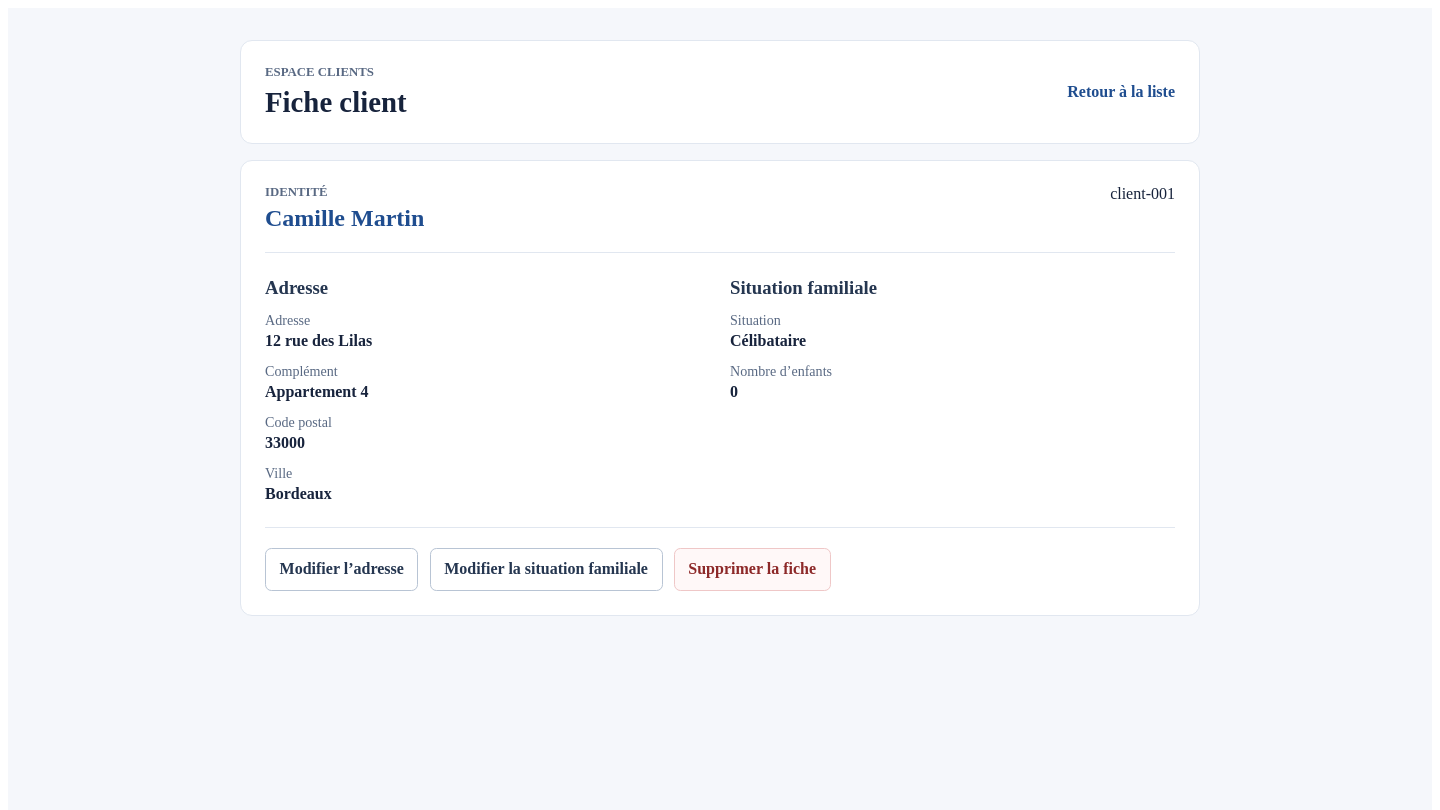
Test: ClientDetailPageComponent › updates the address on success and keeps the original after a recoverable error
Click the button "Modifier l’adresse". click: [342, 569]
box: [265,548,418,590]
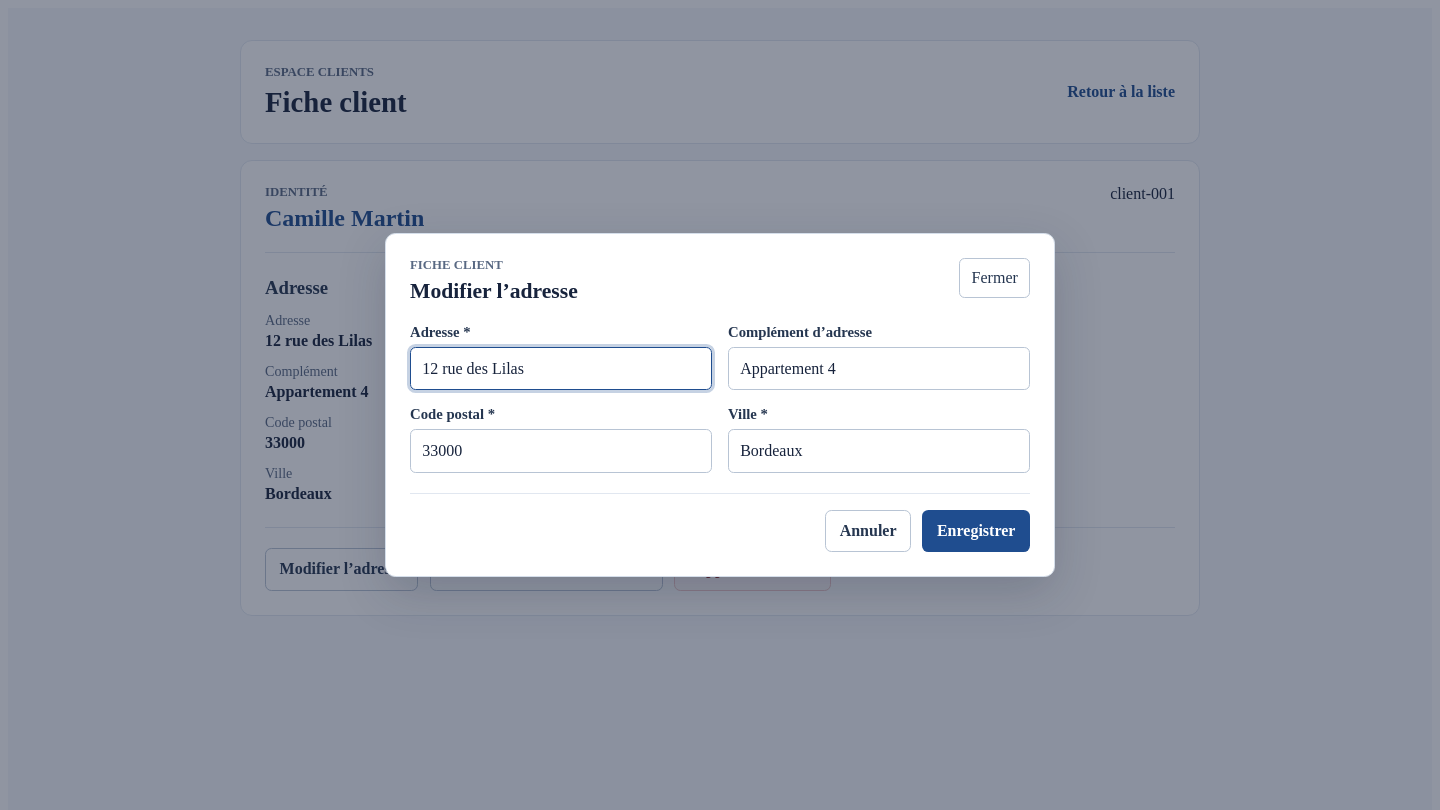
Replace the text in the field named "ligne1" with "44 rue des Fleurs". click: [561, 368]
box: [410,347,712,390]
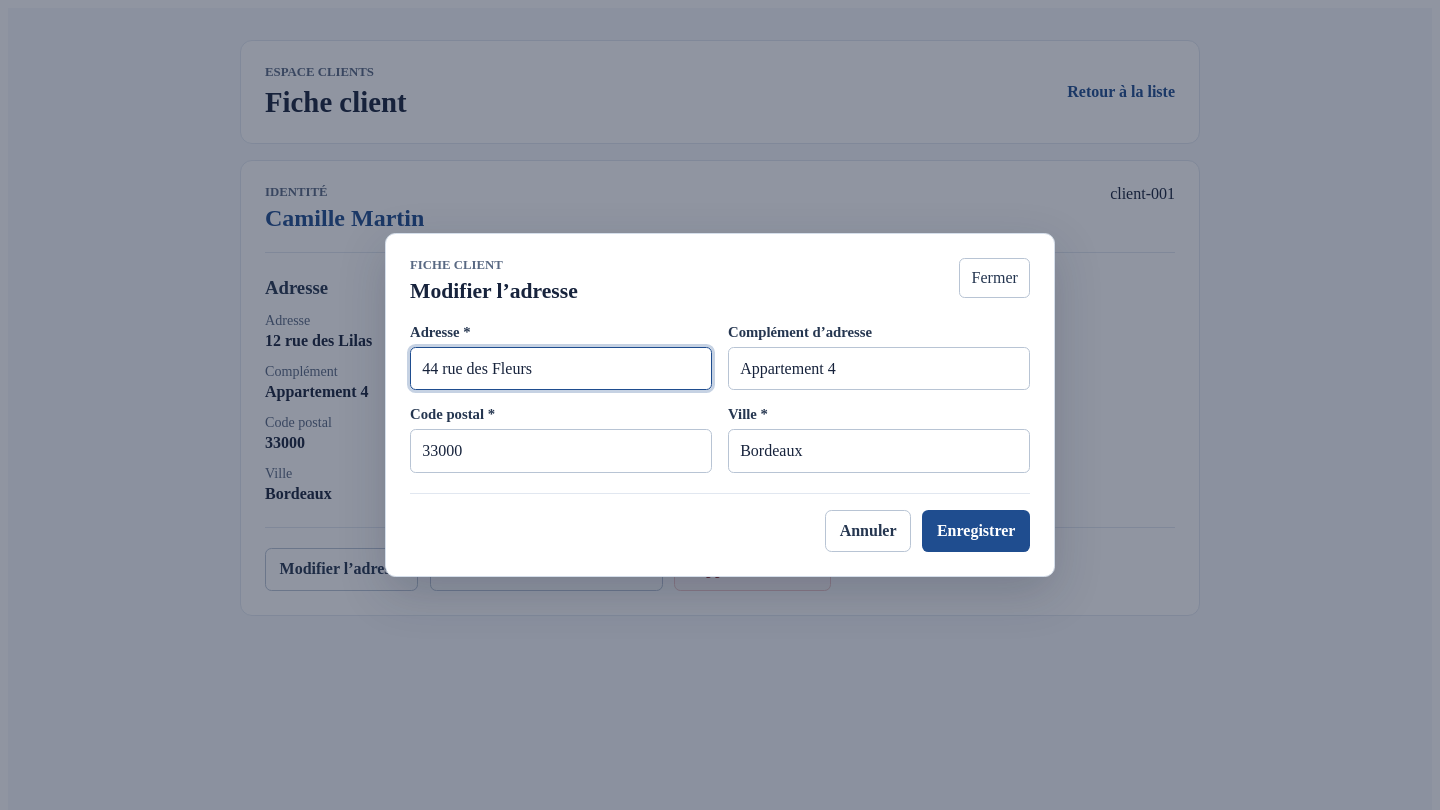
Click the button "Enregistrer". click: [976, 531]
box: [922,510,1030,552]
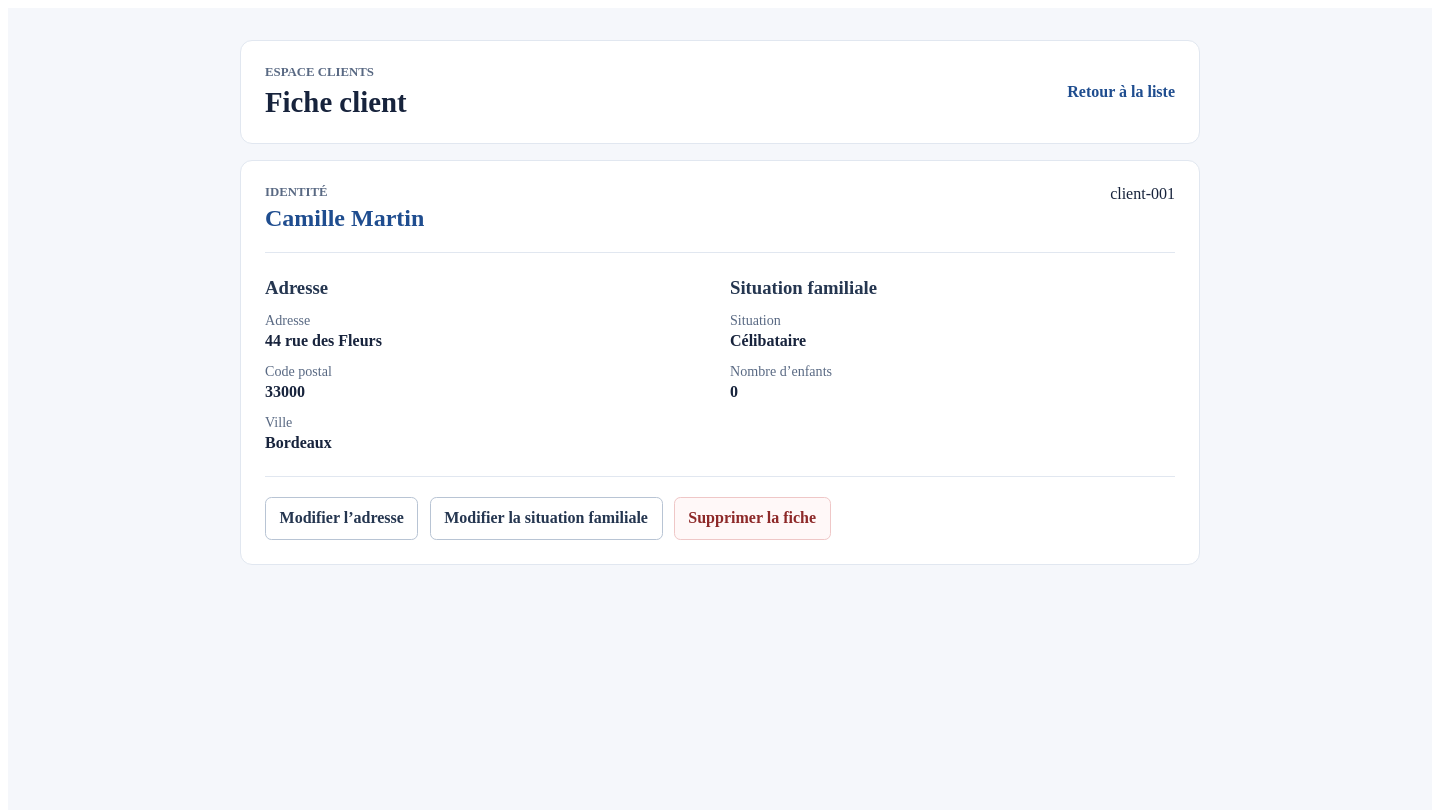
Expected: the text "44 rue des Fleurs" is shown, [265,332,382,349]
Expected: the text "12 rue des Lilas" is gone
Click the button "Modifier l’adresse". click: [342, 518]
box: [265,497,418,540]
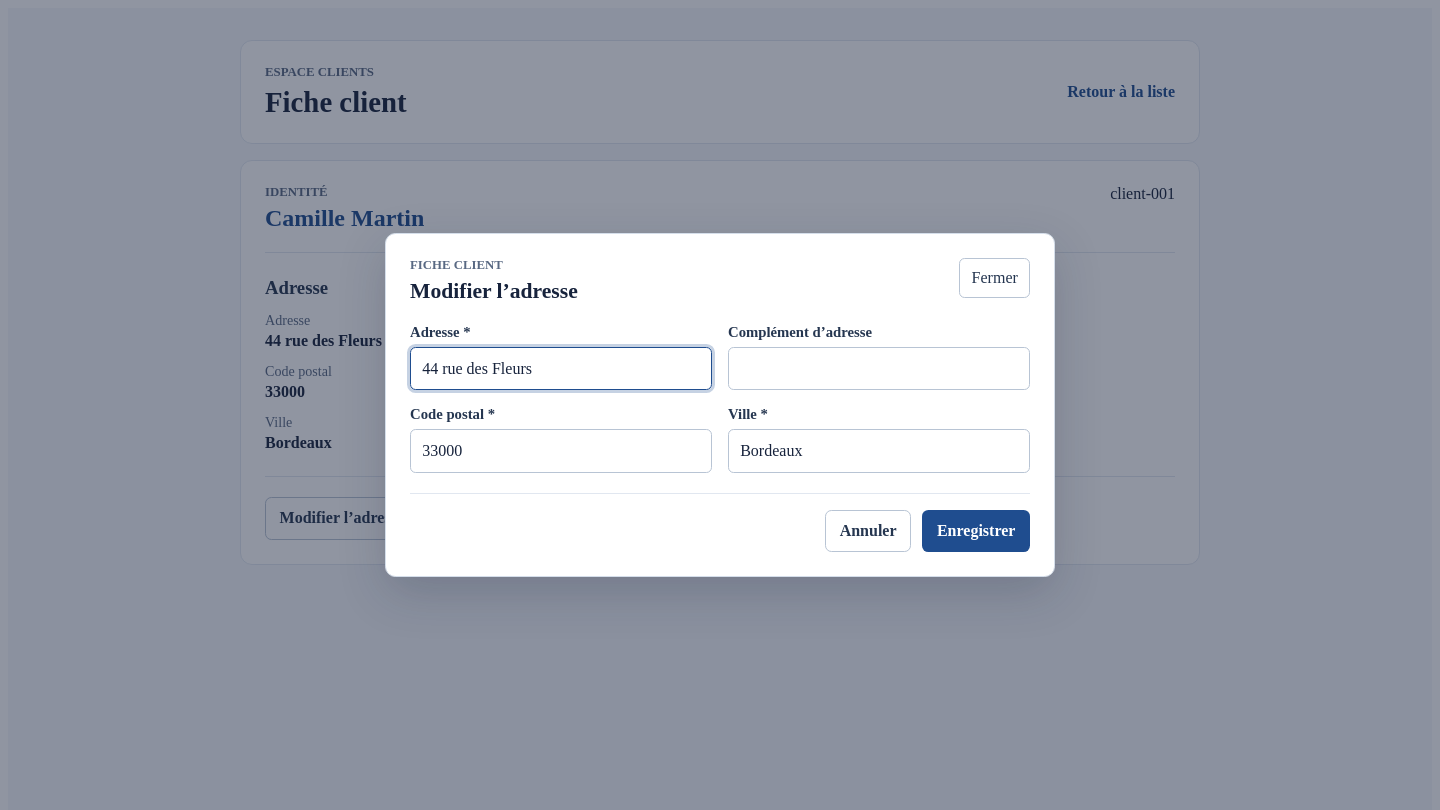
Click the button "Enregistrer". click: [976, 531]
box: [922,510,1030,552]
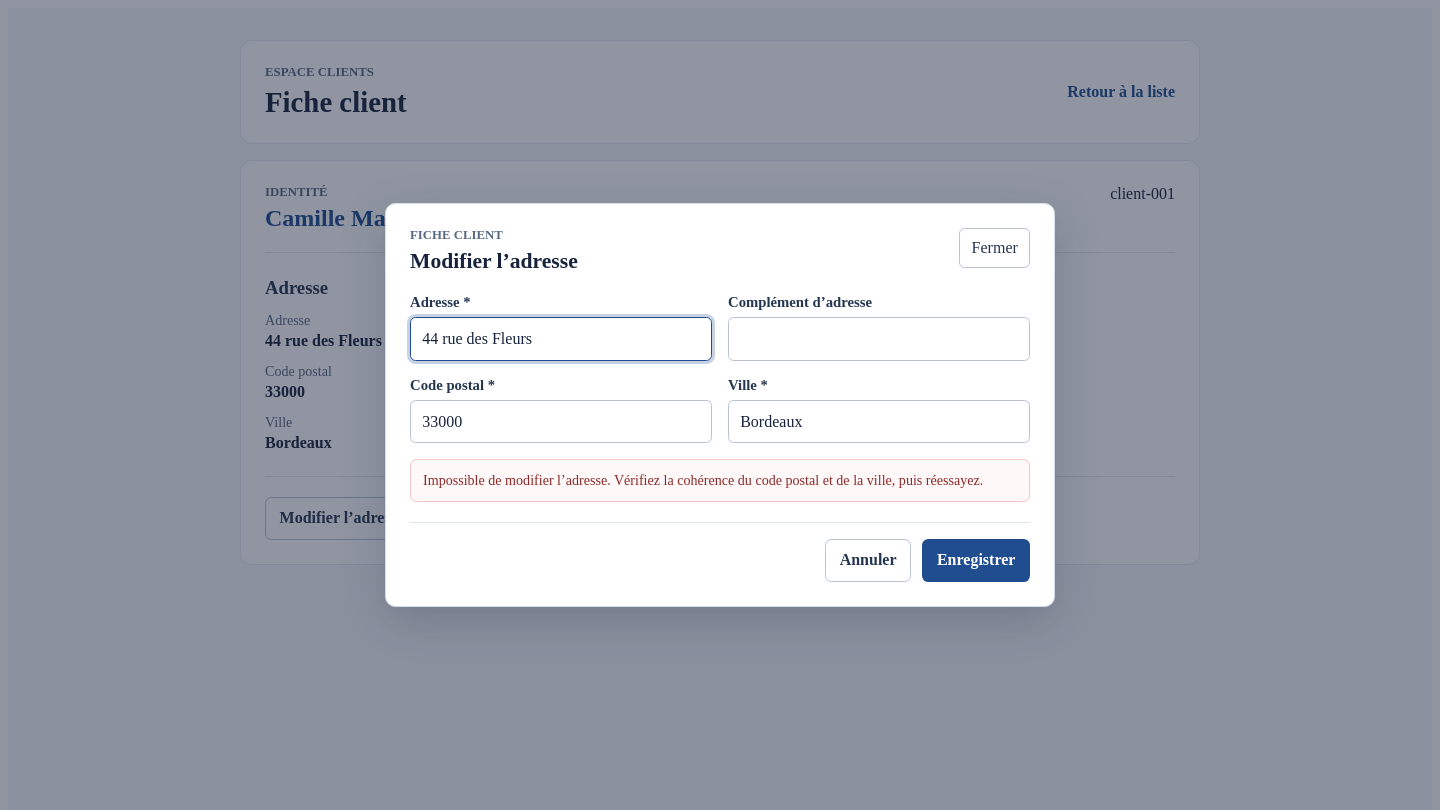
Expected: the text "44 rue des Fleurs" is shown, [265,332,382,349]
Expected: the message shows "Impossible de modifier", [423,472,983,488]
